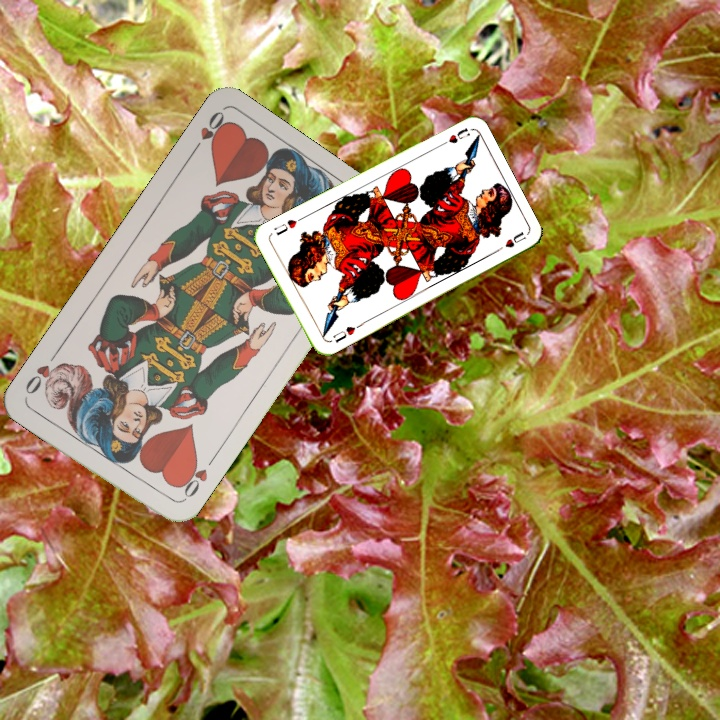HO: (186, 106, 232, 159), (173, 454, 217, 505)
HU: (435, 124, 472, 150), (329, 322, 358, 345)
